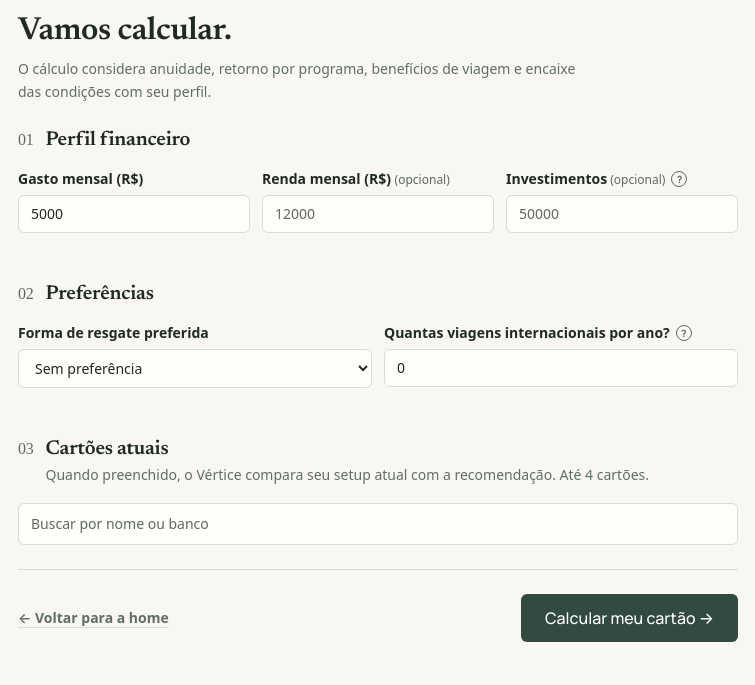
Test: InputForm › rejects negative values via zod
Type "-1" into the number field labelled "Gasto mensal (R$)" at (134, 214), box [18, 195, 250, 233]
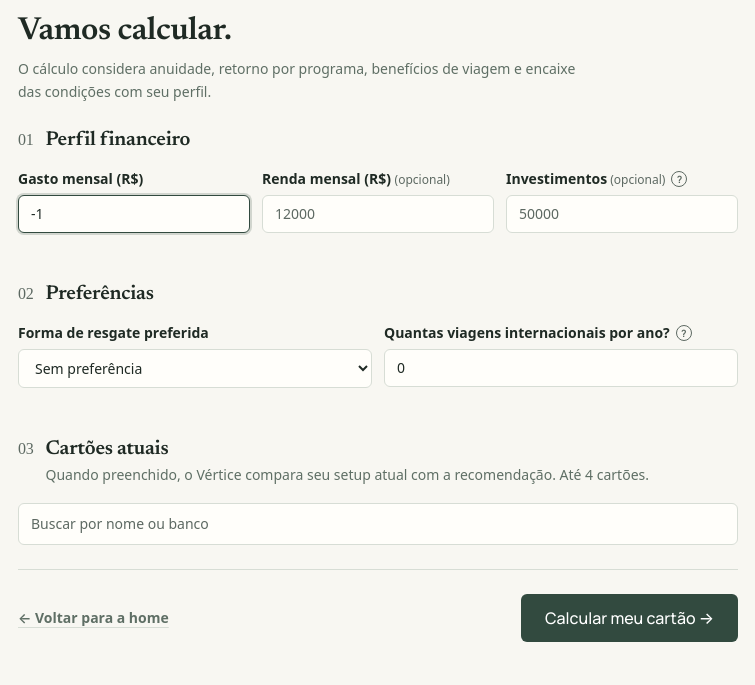
Click the button "Calcular meu cartão →" at (630, 618), box [521, 594, 738, 642]
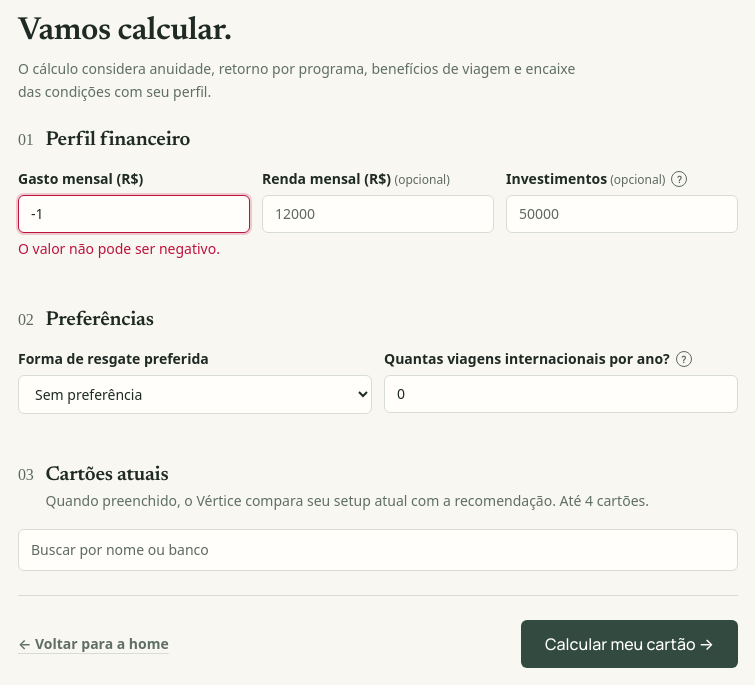
Check: the message shows "negativo", box [18, 239, 220, 258]
